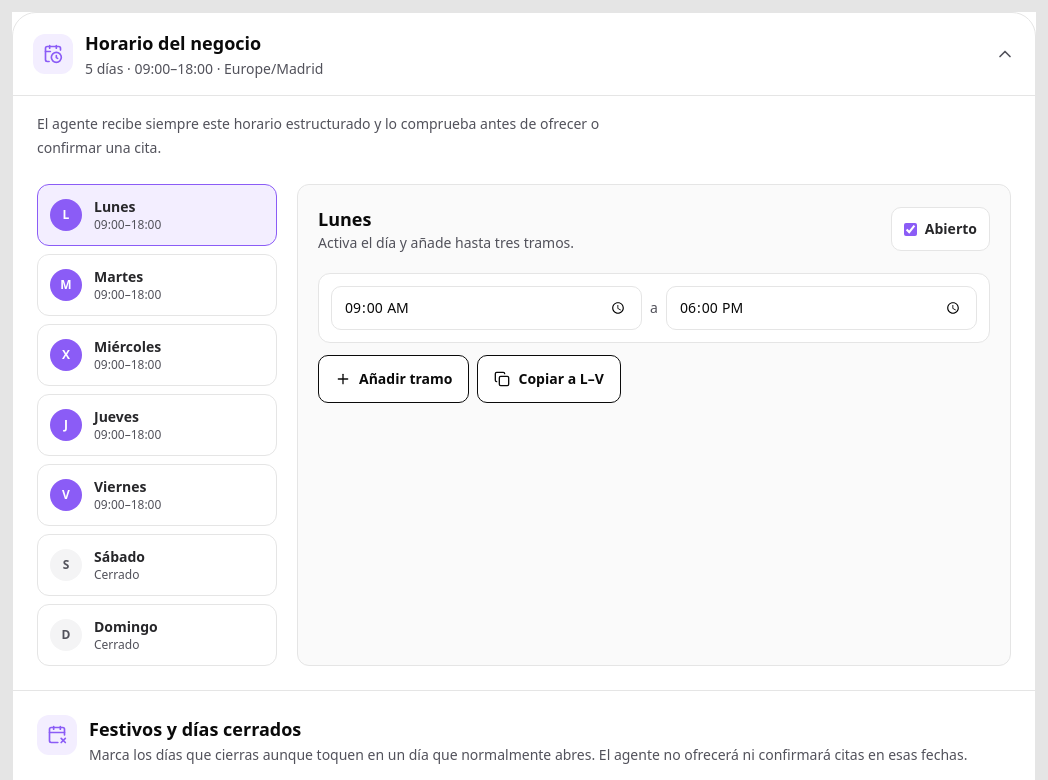
BusinessHoursEditor › elimina un tramo cuando hay más de uno
Step 1. Click the button "Añadir tramo" → x=394, y=379, box [318,355,470,403]
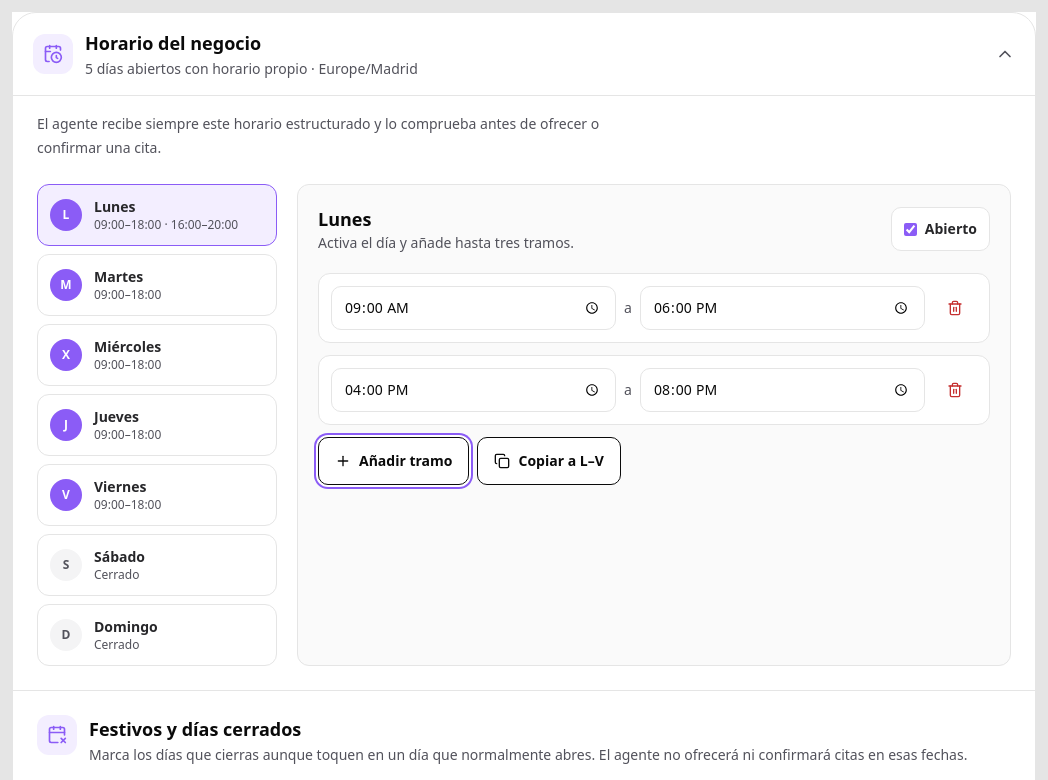
Step 2. Click the 1st button named "Eliminar tramo" → x=955, y=308, box [933,286,977,330]
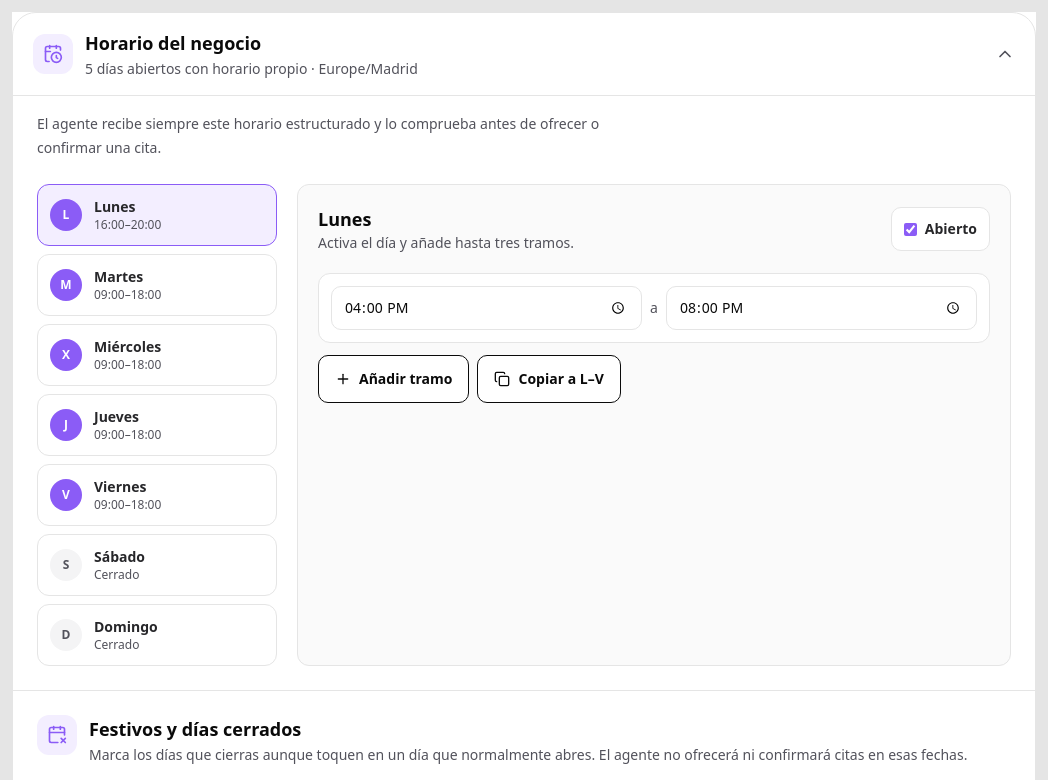
Expected: the number of time fields named "Hora de apertura" is 1, [331,286,642,330]
